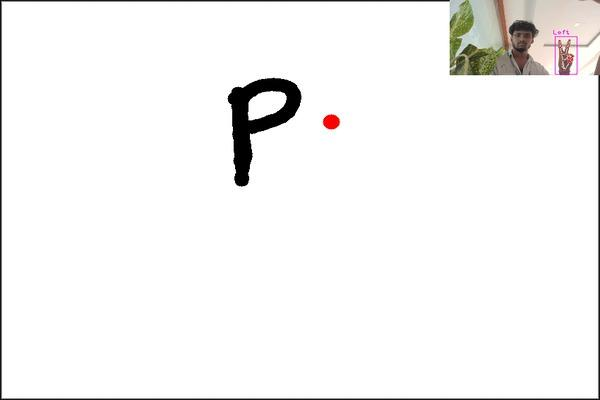P: (209, 59, 311, 190)
